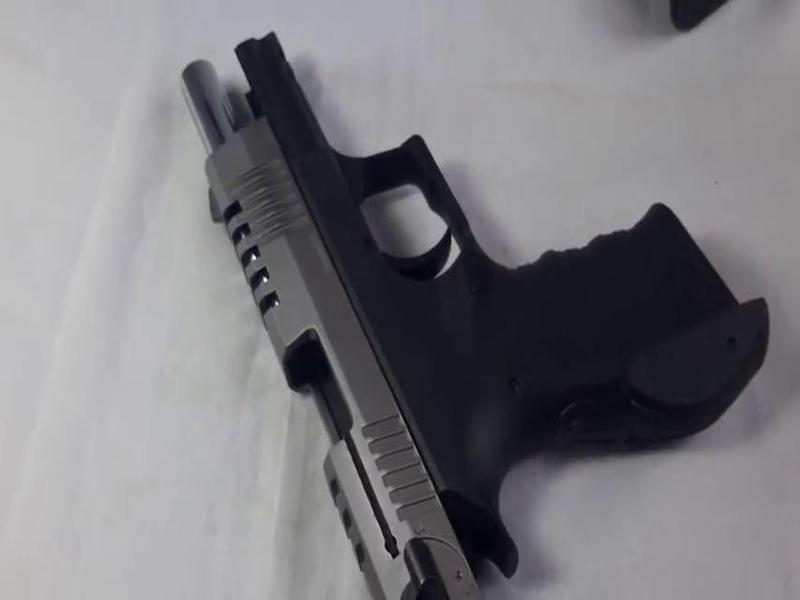Pistola: (148, 20, 782, 596)
